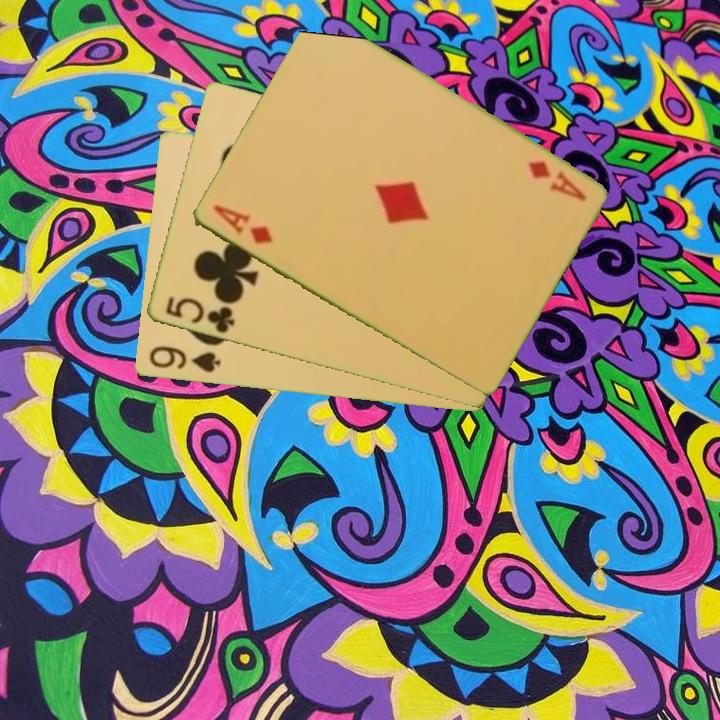5c: (162, 293, 237, 337)
9s: (145, 342, 223, 376)
Ad: (208, 201, 275, 248), (523, 157, 589, 204)
